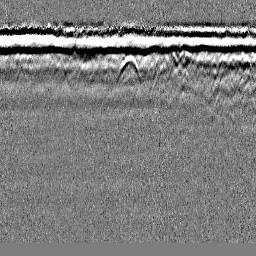cavity: (115, 53, 142, 84)
